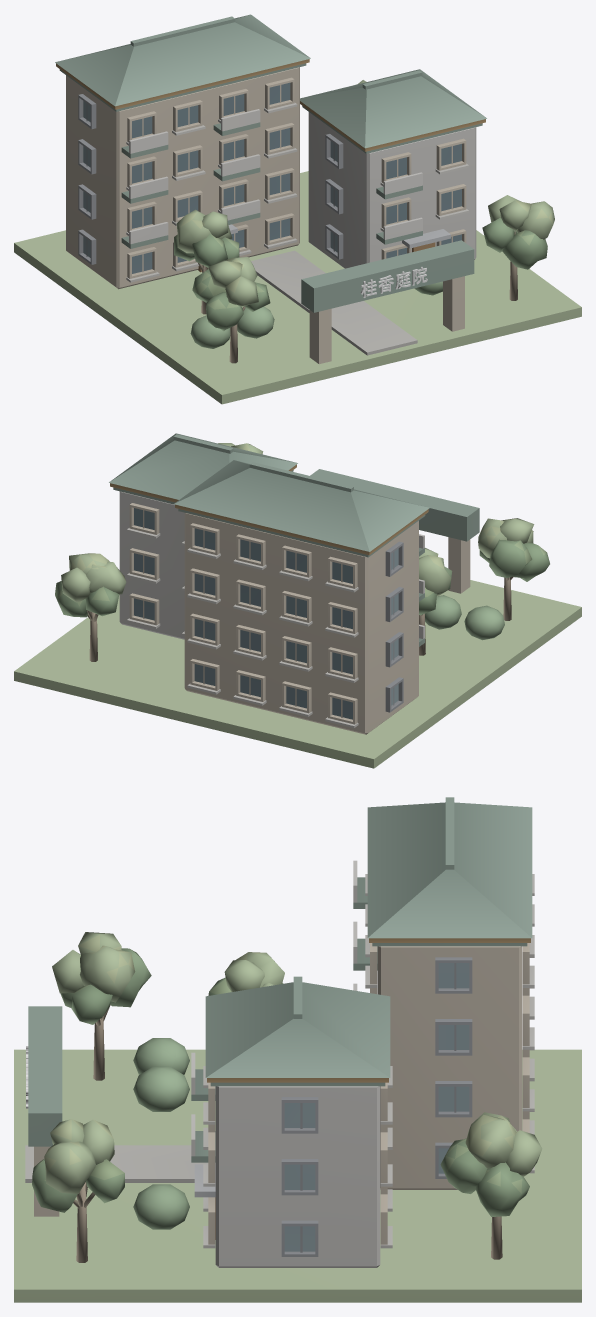
The model's file is garden-estate.glb.
The picture shows the model from 3 angles, top to bottom: view 1: azimuth 30°, elevation 25°; view 2: azimuth 150°, elevation 25°; view 3: azimuth 270°, elevation 25°; orthographic projection. The views are drawn at different scales.
Visible parts, largest first — view 1: garden-estate; view 2: garden-estate; view 3: garden-estate.
Boxes of the visible parts, x1=… form: garden-estate: x1=14, y1=14, x2=581, y2=404; garden-estate: x1=14, y1=433, x2=581, y2=768; garden-estate: x1=14, y1=797, x2=581, y2=1302.
Bounding box in the file's own units: 2 × 1.21 × 2.
